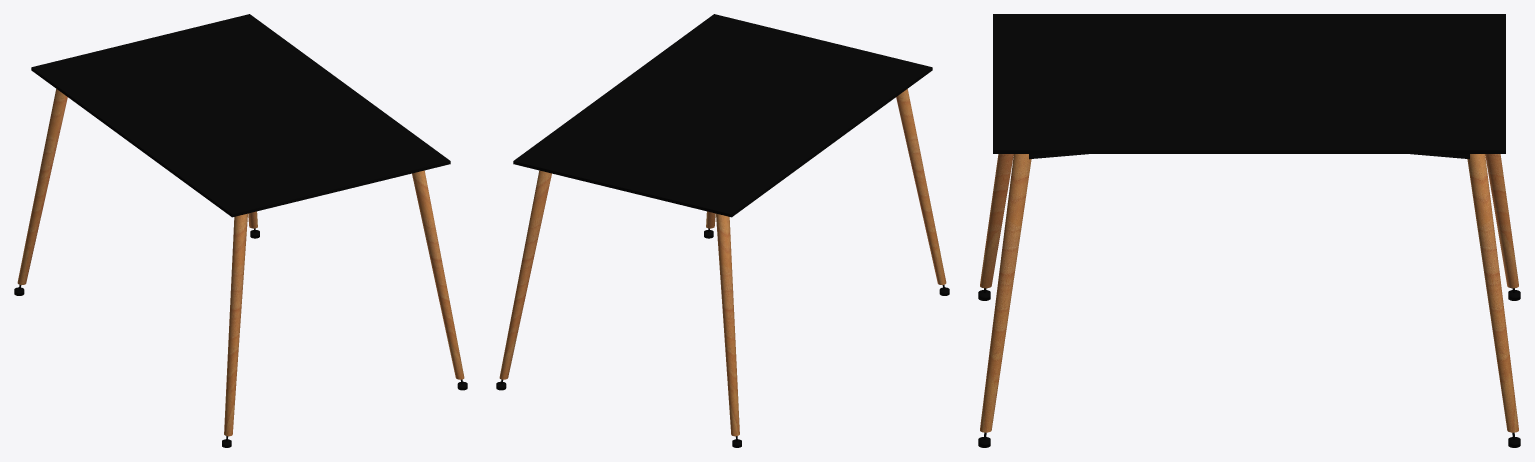
Rendered from meja hitam.fbx.
The picture shows the model from 3 angles, left to right: view 1: azimuth 30°, elevation 25°; view 2: azimuth 150°, elevation 25°; view 3: azimuth 270°, elevation 25°; orthographic projection. The views are drawn at different scales.
Visible parts, largest first — view 1: Cube.001, Cylinder; view 2: Cube.001, Cylinder; view 3: Cube.001, Cylinder.
Part boxes in pixels (x1=…): Cube.001: x1=31, y1=14, x2=450, y2=217; Cylinder: x1=17, y1=89, x2=464, y2=436; Cube.001: x1=513, y1=14, x2=932, y2=217; Cylinder: x1=499, y1=89, x2=946, y2=436; Cube.001: x1=993, y1=14, x2=1505, y2=153; Cylinder: x1=980, y1=154, x2=1518, y2=432.
Size of the model in its own units: 83.83 by 74.4 by 126.
2 materials, 1 textured.
